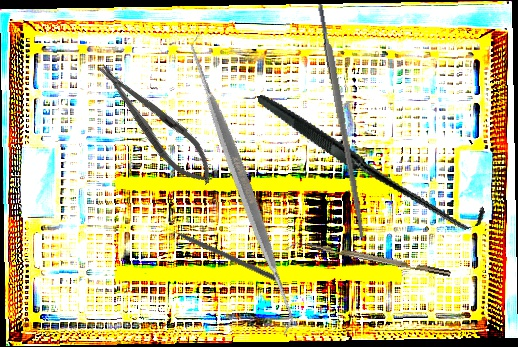Chopper: (284, 236, 452, 285)
Hook Surgical: (256, 40, 489, 279)
Needle Holder: (87, 52, 225, 195)
Pusher: (158, 220, 280, 283)
Scalpel Handle: (316, 2, 368, 240)
Spatula Surgical: (89, 32, 395, 336)
